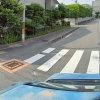crosswalks: (22, 47, 100, 75)
